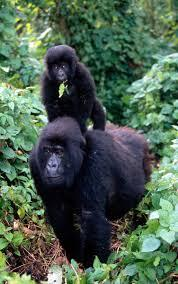goriile_montagne: (22, 109, 173, 259), (29, 35, 103, 120)
